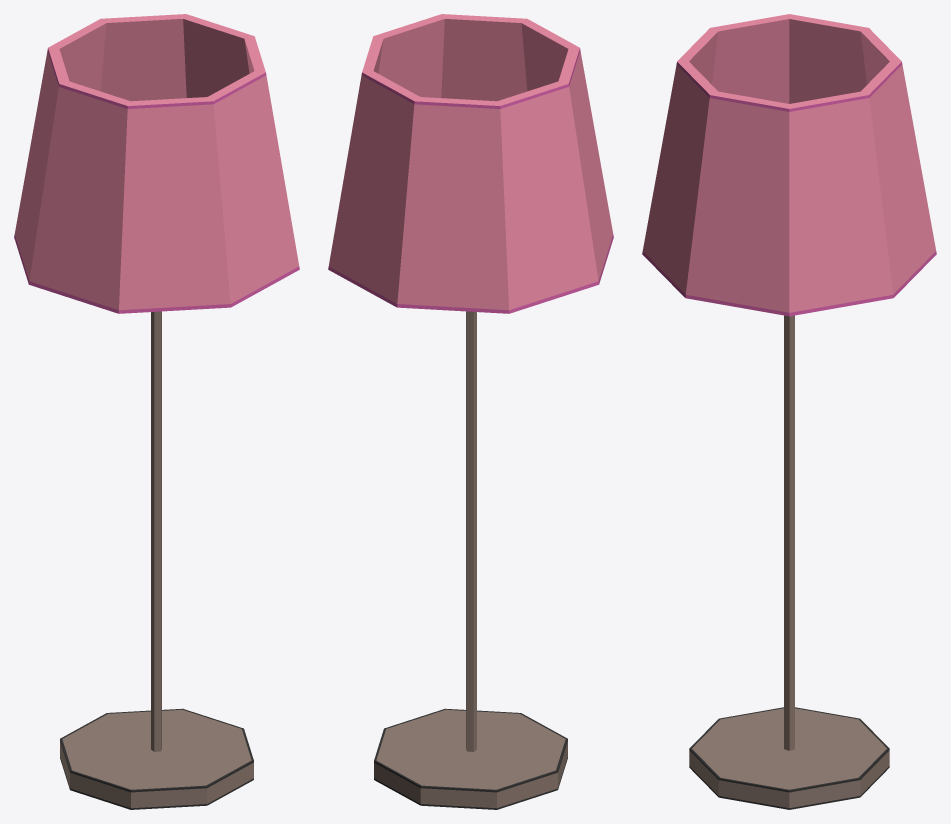
The model's file is Lamp_Standing.fbx.
The picture shows the model from 3 angles, left to right: view 1: azimuth 30°, elevation 25°; view 2: azimuth 150°, elevation 25°; view 3: azimuth 270°, elevation 25°; orthographic projection.
Parts seen in each view (by area): view 1: Standing_Lamp1; view 2: Standing_Lamp1; view 3: Standing_Lamp1.
Boxes of the visible parts, x1=… form: Standing_Lamp1: x1=14, y1=14, x2=299, y2=809; Standing_Lamp1: x1=328, y1=14, x2=613, y2=809; Standing_Lamp1: x1=642, y1=14, x2=936, y2=809.
Bounding box in the file's own units: 79.64 × 211 × 79.64.
